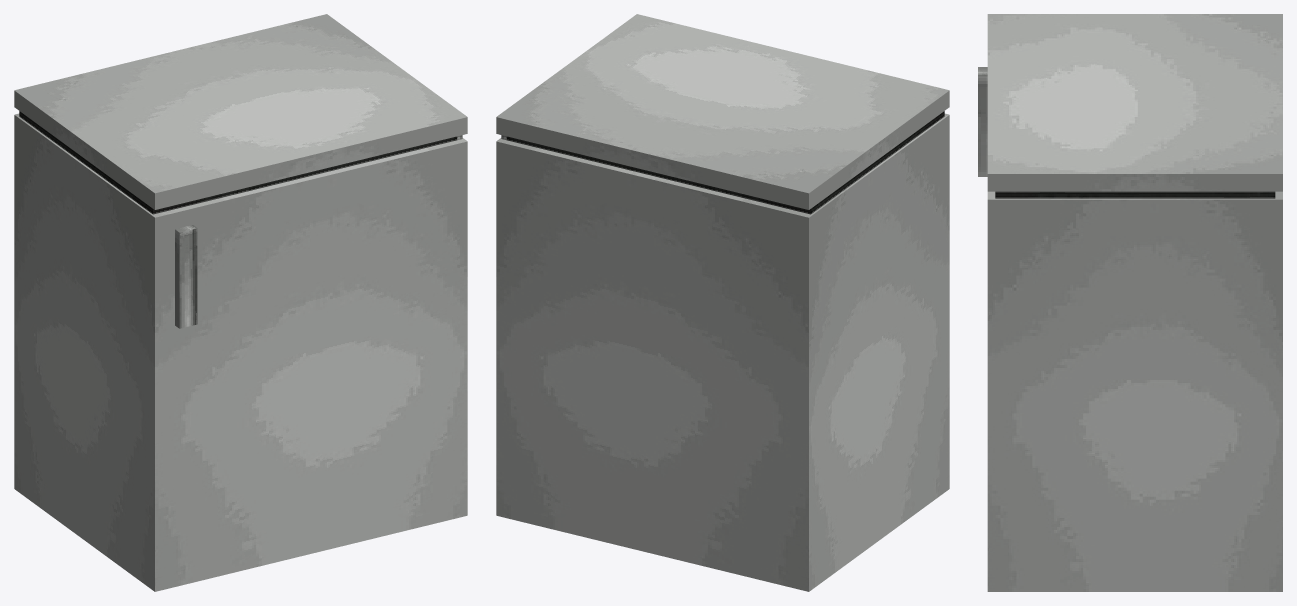
Rendered from fridge.glb.
3 renders of one model, left to right at view 1: azimuth 30°, elevation 25°; view 2: azimuth 150°, elevation 25°; view 3: azimuth 270°, elevation 25°, orthographic. The views are drawn at different scales.
Visible parts, largest first — view 1: Fridge; view 2: Fridge; view 3: Fridge.
Boxes of the visible parts, left/top/right/bottom form: Fridge: left=14, top=14, right=467, bottom=591; Fridge: left=496, top=14, right=949, bottom=591; Fridge: left=978, top=14, right=1282, bottom=591.
Bounding box in the file's own units: 1 × 1.22 × 0.8053.
Materials: 1 (1 with a texture image).
